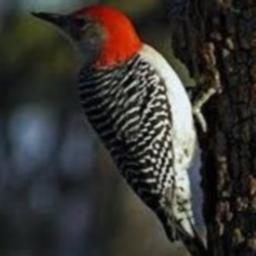Woodpecker: (31, 4, 214, 256)
